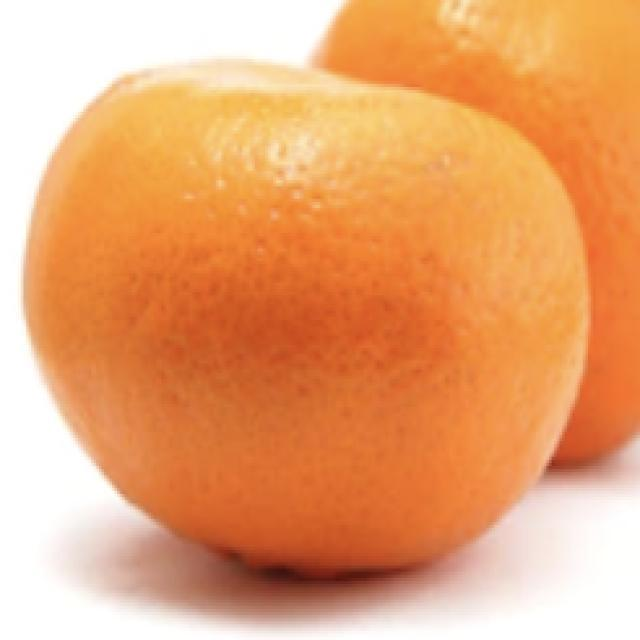Orange: (21, 55, 592, 581), (309, 0, 639, 468)
